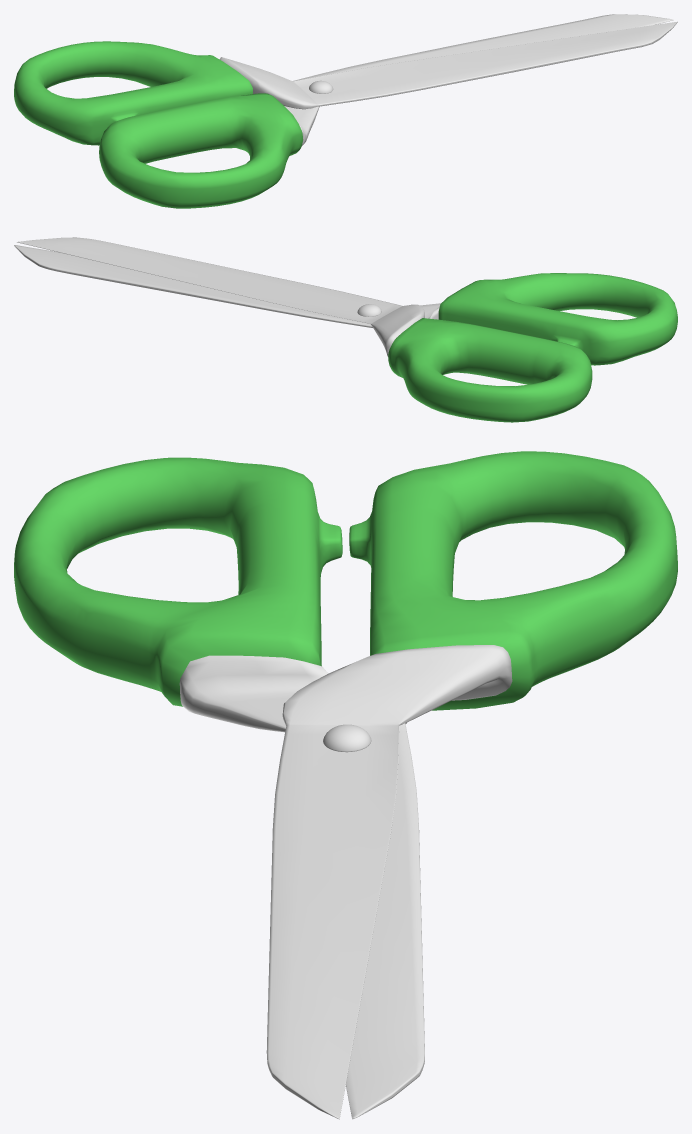
File: Scissors_MPI01_fbx.fbx
3 views of the same model, one above another, from view 1: azimuth 30°, elevation 25°; view 2: azimuth 150°, elevation 25°; view 3: azimuth 270°, elevation 25° (orthographic). The views are drawn at different scales.
Visible parts, largest first — view 1: scissors; view 2: scissors; view 3: scissors.
Part boxes in pixels (left/top/right/bottom): scissors: left=14, top=14, right=677, bottom=208; scissors: left=14, top=237, right=677, bottom=422; scissors: left=14, top=451, right=677, bottom=1119.
Bounding box in the file's own units: 15.72 × 1.23 × 7.49.
